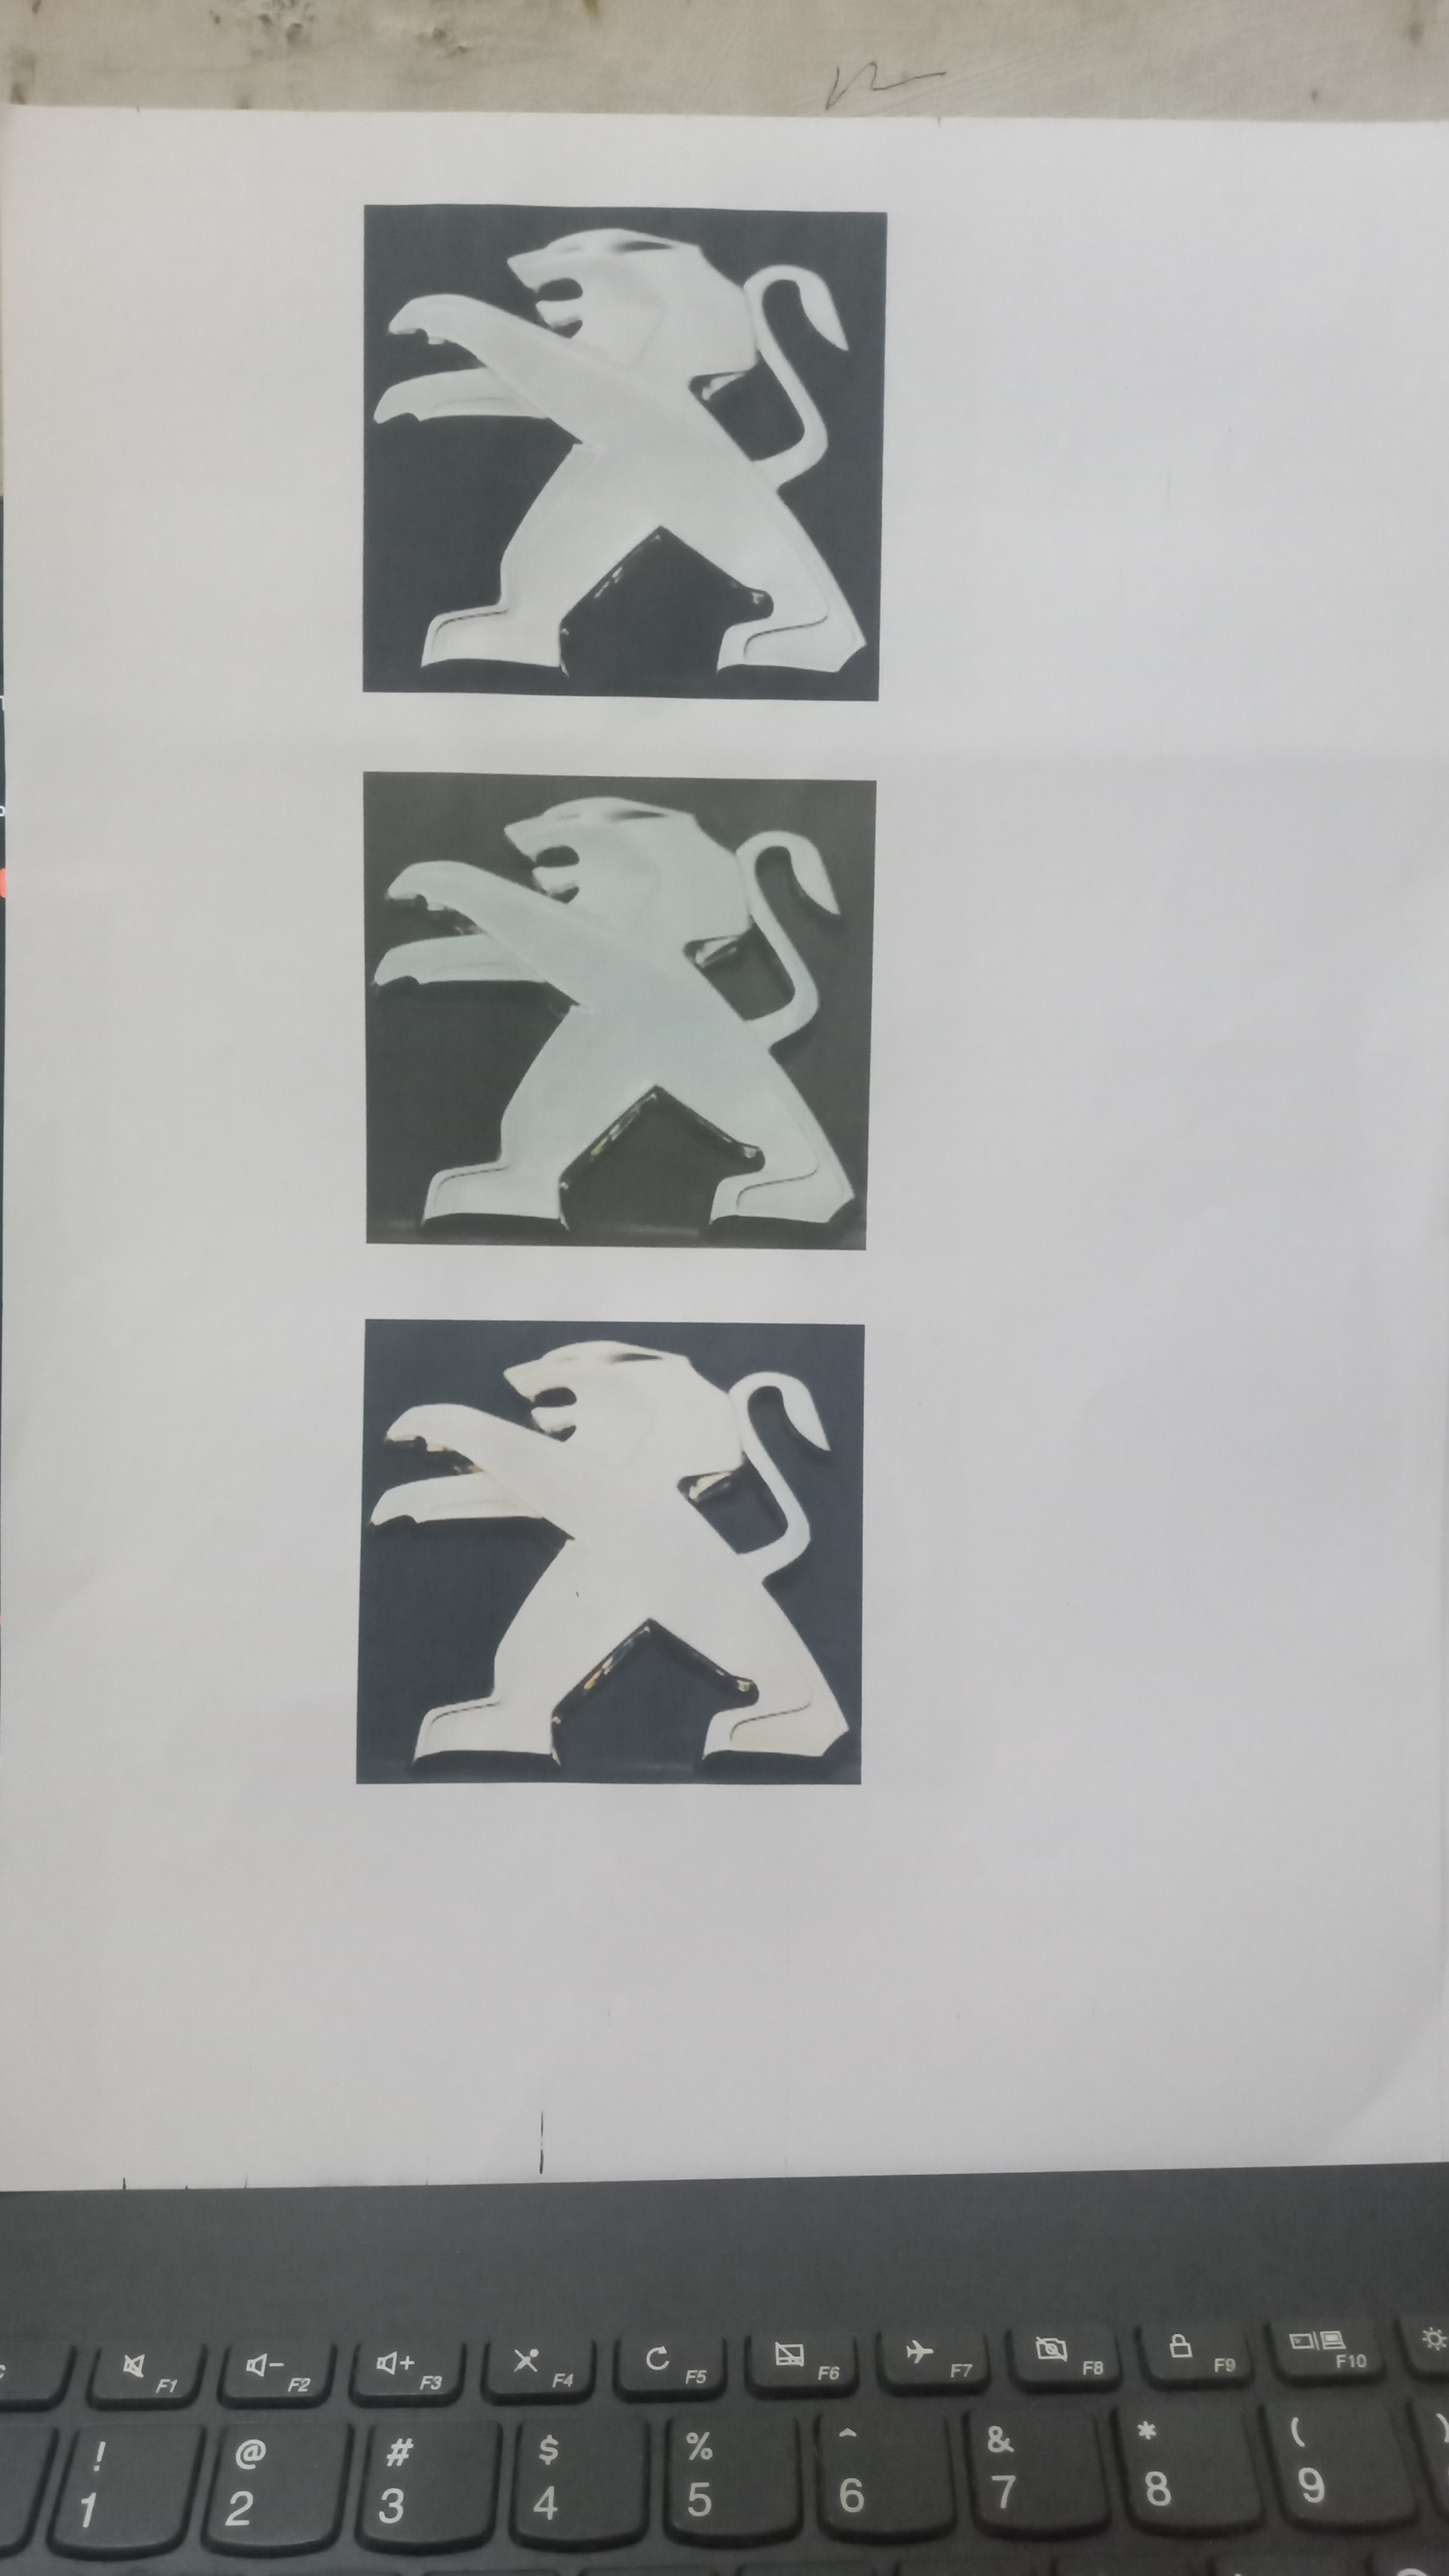Peugeot: (370, 207, 878, 701), (361, 773, 863, 1254), (372, 1322, 858, 1787)
